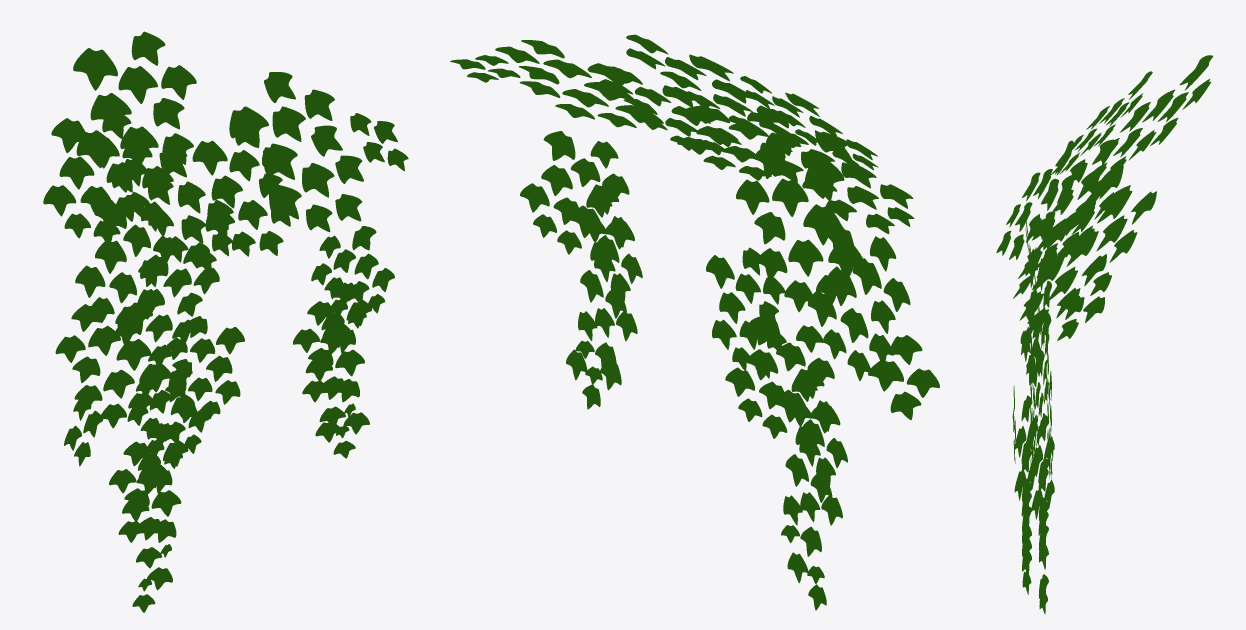
The model's file is Prop_Vine5.obj.
The picture shows the model from 3 angles, left to right: view 1: azimuth 30°, elevation 25°; view 2: azimuth 150°, elevation 25°; view 3: azimuth 270°, elevation 25°; orthographic projection. The views are drawn at different scales.
Visible parts, largest first — view 1: Prop_Vine5; view 2: Prop_Vine5; view 3: Prop_Vine5.
Boxes of the visible parts, left/top/right/bottom form: Prop_Vine5: left=43, top=31, right=408, bottom=612; Prop_Vine5: left=450, top=34, right=939, bottom=610; Prop_Vine5: left=996, top=55, right=1213, bottom=614.
Size of the model in its own units: 2.3 by 2.99 by 1.13.
